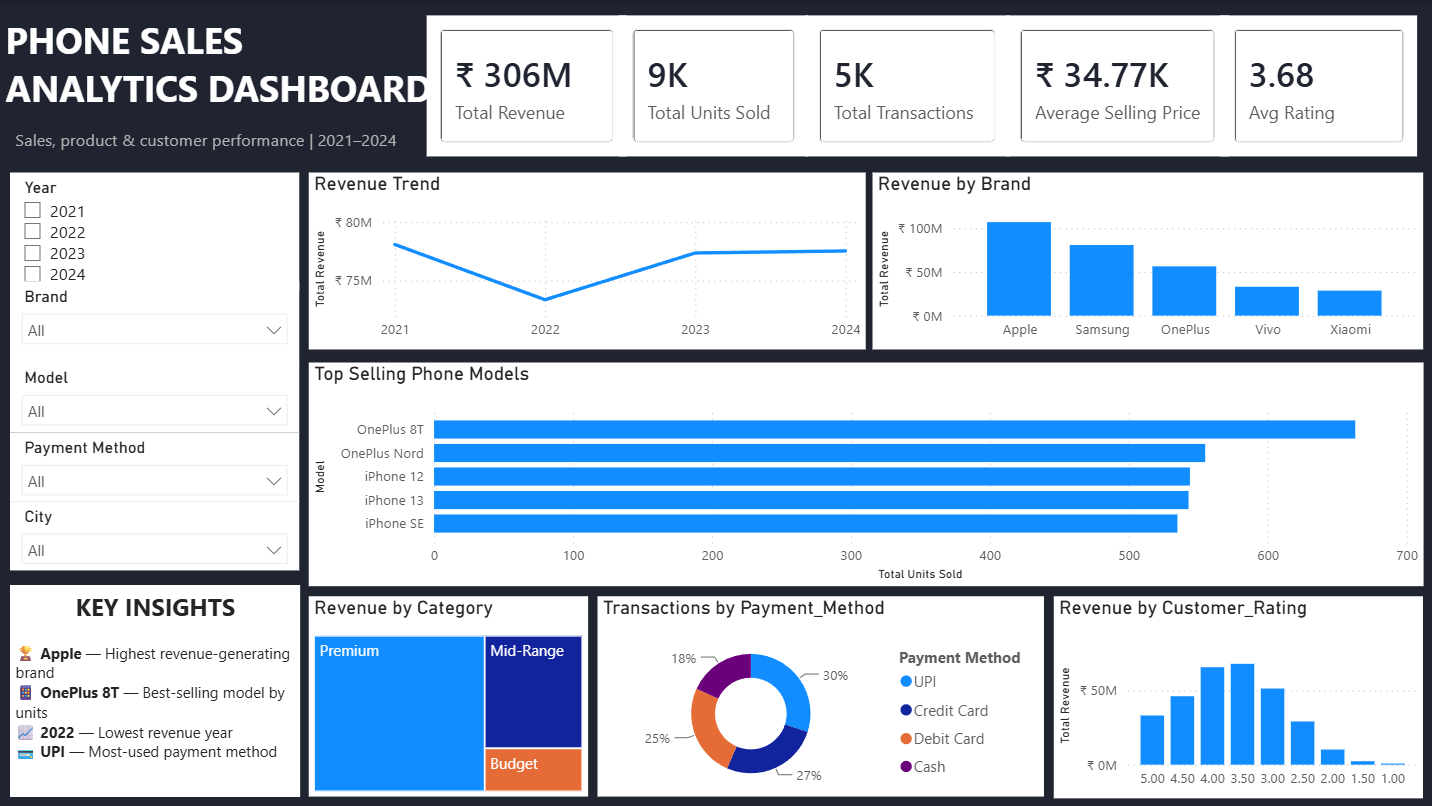

The dashboard page shown, as its layout file describes it:
{"tool":"powerbi","page":{"name":"Page 1","canvas":[1280,720],"ordinal":0},"visuals":[{"type":"textbox","box":[0,8.8,400,100],"z":0},{"type":"textbox","box":[8.4,108.6,376.4,72.4],"z":1000},{"type":"cardVisual","fields":{"Data":["Fact_Sales.Total Revenue"]},"box":[375,8.8,188.8,135],"z":2000},{"type":"cardVisual","fields":{"Data":["Fact_Sales.Total Units Sold"]},"box":[546.2,8.8,178.8,135],"z":3000},{"type":"cardVisual","fields":{"Data":["Fact_Sales.Total Transactions"]},"box":[712.5,8.8,191.2,135],"z":4000},{"type":"cardVisual","fields":{"Data":["Fact_Sales.Average Selling Price"]},"box":[891.2,8.8,207.5,135],"z":5000},{"type":"cardVisual","fields":{"Data":["Fact_Sales.Average Customer Rating"]},"box":[1082.5,8.8,197.5,135],"z":6000},{"type":"lineChart","title":"Revenue Trend","fields":{"Category":["Fact_Sales.Date.Variation.Date Hierarchy.Year"],"Y":["Fact_Sales.Total Revenue"]},"box":[275,153.8,496.2,157.5],"z":7000},{"type":"clusteredColumnChart","fields":{"Category":["Dim_Product.Brand"],"Y":["Fact_Sales.Total Revenue"]},"box":[777.5,153.8,490,157.5],"z":8000},{"type":"clusteredBarChart","title":"Top Selling Phone Models","fields":{"Y":["Fact_Sales.Total Units Sold"],"Category":["Dim_Product.Model"]},"box":[275,322.8,993,199.3],"z":9000},{"type":"donutChart","title":"Transactions by Payment_Method","fields":{"Category":["Fact_Sales.Payment_Method"],"Y":["Fact_Sales.Total Transactions"]},"box":[532.5,531.2,397.5,178.8],"z":10000},{"type":"treemap","title":"Revenue by Category","fields":{"Group":["Dim_Product.Category"],"Values":["Fact_Sales.Total Revenue"]},"box":[275,531.2,248.8,178.8],"z":11000},{"type":"clusteredColumnChart","title":"Revenue by Customer_Rating","fields":{"Category":["Fact_Sales.Customer_Rating"],"Y":["Fact_Sales.Total Revenue"]},"box":[938.8,531.2,328.8,180],"z":12000},{"type":"slicer","fields":{"Values":["Fact_Sales.Date.Variation.Date Hierarchy.Year"]},"box":[8.8,153.8,257.5,105],"z":13000},{"type":"slicer","fields":{"Values":["Dim_Product.Brand"]},"box":[8.8,250,257.5,72.5],"z":14000},{"type":"slicer","fields":{"Values":["Dim_Product.Model"]},"box":[8.8,322.5,257.5,62.5],"z":15000},{"type":"slicer","fields":{"Values":["Dim_Customer.City"]},"box":[8.8,446.2,257.5,61.2],"z":16000},{"type":"slicer","fields":{"Values":["Fact_Sales.Payment_Method"]},"box":[8.8,385,257.5,61.2],"z":17000},{"type":"textbox","box":[8.8,521.2,258.8,188.8],"z":17001}]}

Visuals, with their boxes in screenshot pixels (x1, y1, x2, y2), scaled from the page's 1280x720 canvas onto the 1432x806 screenshot:
textbox: [left=0, top=10, right=447, bottom=122]
textbox: [left=9, top=122, right=430, bottom=203]
cardVisual - Fact_Sales.Total Revenue: [left=420, top=10, right=631, bottom=161]
cardVisual - Fact_Sales.Total Units Sold: [left=611, top=10, right=811, bottom=161]
cardVisual - Fact_Sales.Total Transactions: [left=797, top=10, right=1011, bottom=161]
cardVisual - Fact_Sales.Average Selling Price: [left=997, top=10, right=1229, bottom=161]
cardVisual - Fact_Sales.Average Customer Rating: [left=1211, top=10, right=1431, bottom=161]
"Revenue Trend" lineChart: [left=308, top=172, right=863, bottom=348]
clusteredColumnChart - Dim_Product.Brand x Fact_Sales.Total Revenue: [left=870, top=172, right=1418, bottom=348]
"Top Selling Phone Models" clusteredBarChart: [left=308, top=361, right=1419, bottom=584]
"Transactions by Payment_Method" donutChart: [left=596, top=595, right=1040, bottom=795]
"Revenue by Category" treemap: [left=308, top=595, right=586, bottom=795]
"Revenue by Customer_Rating" clusteredColumnChart: [left=1050, top=595, right=1418, bottom=796]
slicer - Fact_Sales.Date.Variation.Date Hierarchy.Year: [left=10, top=172, right=298, bottom=290]
slicer - Dim_Product.Brand: [left=10, top=280, right=298, bottom=361]
slicer - Dim_Product.Model: [left=10, top=361, right=298, bottom=431]
slicer - Dim_Customer.City: [left=10, top=499, right=298, bottom=568]
slicer - Fact_Sales.Payment_Method: [left=10, top=431, right=298, bottom=499]
textbox: [left=10, top=583, right=299, bottom=795]
